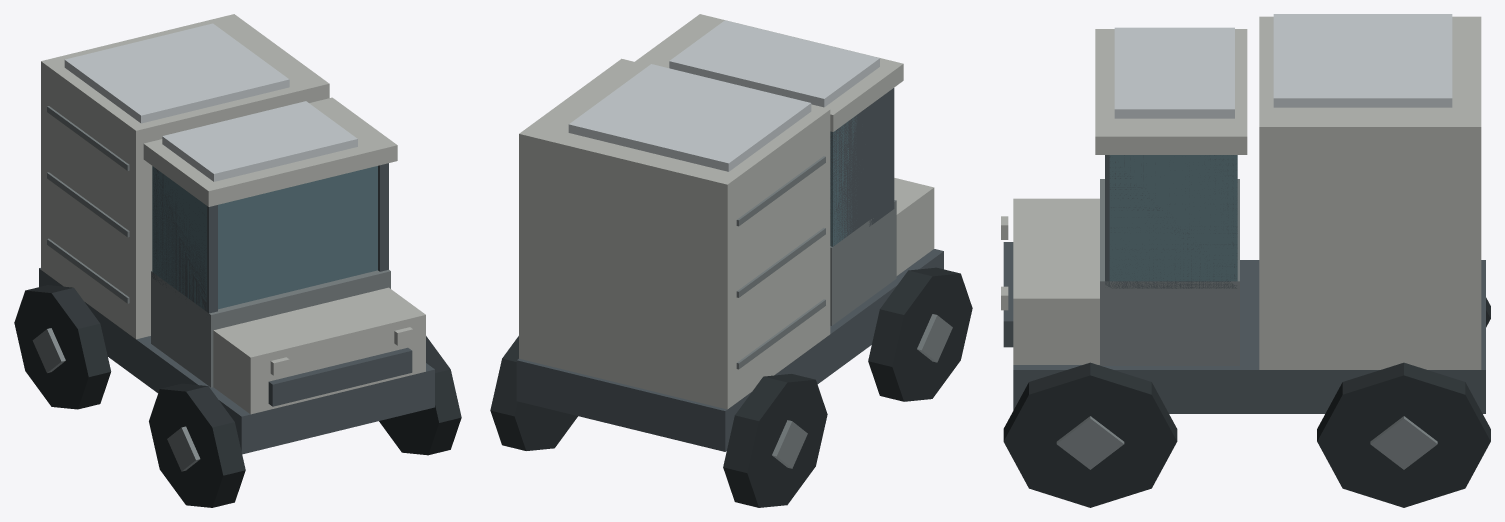
File: fish_truck.glb
3 views of the same model, side by side, from view 1: azimuth 30°, elevation 25°; view 2: azimuth 150°, elevation 25°; view 3: azimuth 270°, elevation 25° (orthographic). The views are drawn at different scales.
Parts seen in each view (by area): view 1: fish_truck; view 2: fish_truck; view 3: fish_truck.
Part boxes in pixels (box(x1,y1,x2,y2)): fish_truck: box(14, 14, 461, 507); fish_truck: box(490, 14, 972, 507); fish_truck: box(1001, 14, 1490, 507).
Size of the model in its own units: 1.96 by 2.45 by 2.88.
